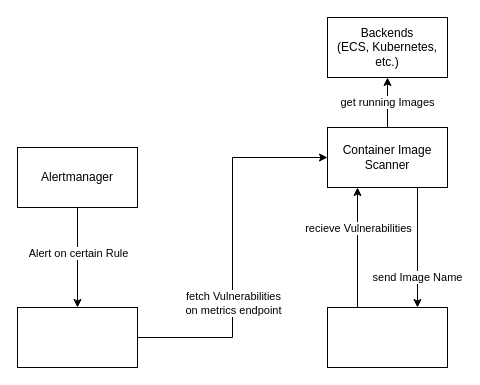
Some shapes in this 480 by 385 pixel diagram are drawn without their labels. Each missing label, with the centre of its shape:
"Prometheus" belongs at (77,337).
"Trivy Server" belongs at (387,337).
